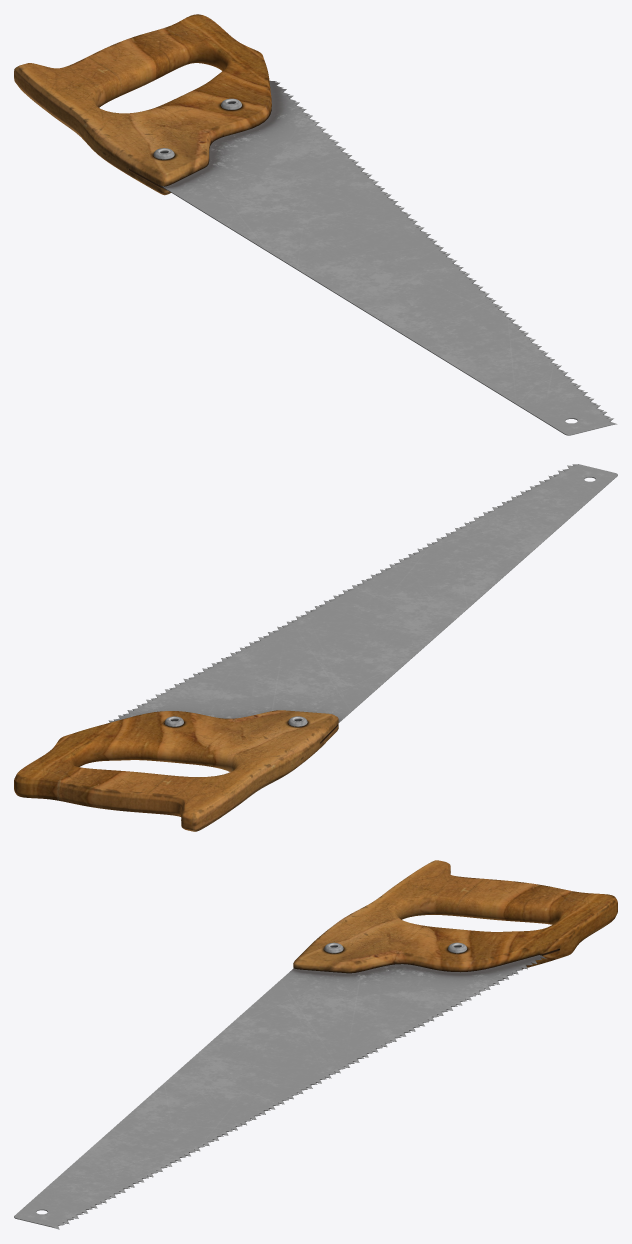
The model's file is UT2_Vsaw.fbx.
The picture shows the model from 3 angles, top to bottom: view 1: azimuth 30°, elevation 25°; view 2: azimuth 150°, elevation 25°; view 3: azimuth 330°, elevation 25°; orthographic projection. The views are drawn at different scales.
Visible parts, largest first — view 1: Hand_saw_blade, Hand_saw_handle; view 2: Hand_saw_blade, Hand_saw_handle; view 3: Hand_saw_blade, Hand_saw_handle.
Part boxes in pixels (box(x1,y1,x2,y2)): Hand_saw_blade: box(159, 80, 617, 435); Hand_saw_handle: box(14, 14, 271, 195); Hand_saw_blade: box(108, 464, 617, 723); Hand_saw_handle: box(14, 710, 338, 831); Hand_saw_blade: box(14, 955, 546, 1229); Hand_saw_handle: box(293, 860, 617, 973).
Bounding box in the file's own units: 0.1514 × 0.0202 × 0.6404.
3 materials, 3 textured.
